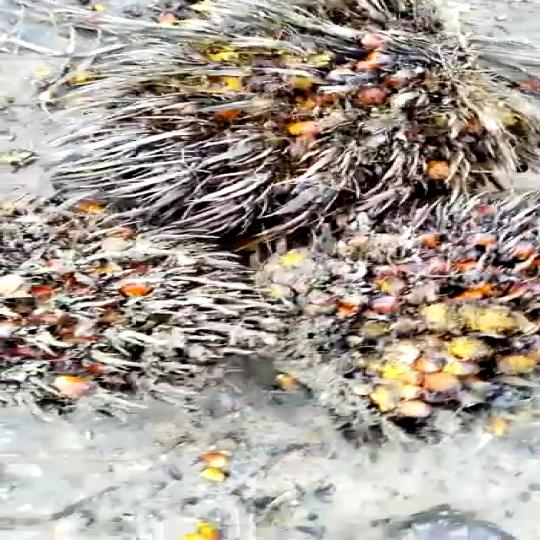terlalu masak: (56, 13, 513, 241), (216, 202, 540, 428), (0, 212, 248, 402)
